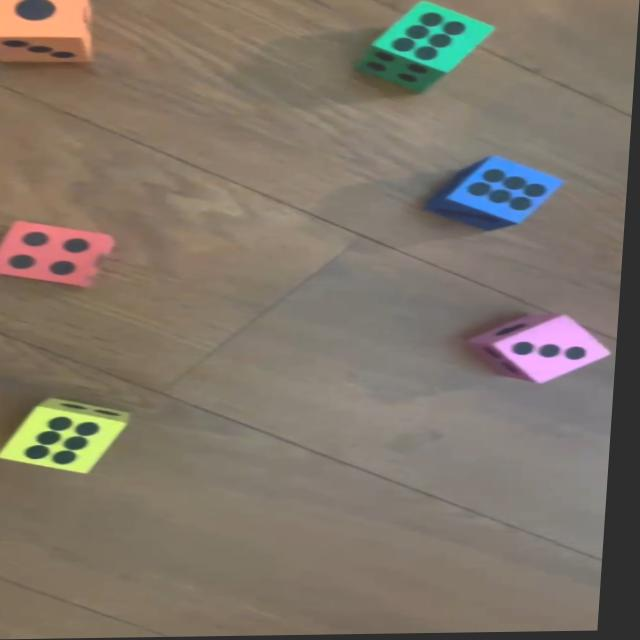cube: (355, 1, 496, 95), (427, 156, 569, 233), (0, 218, 120, 290)
